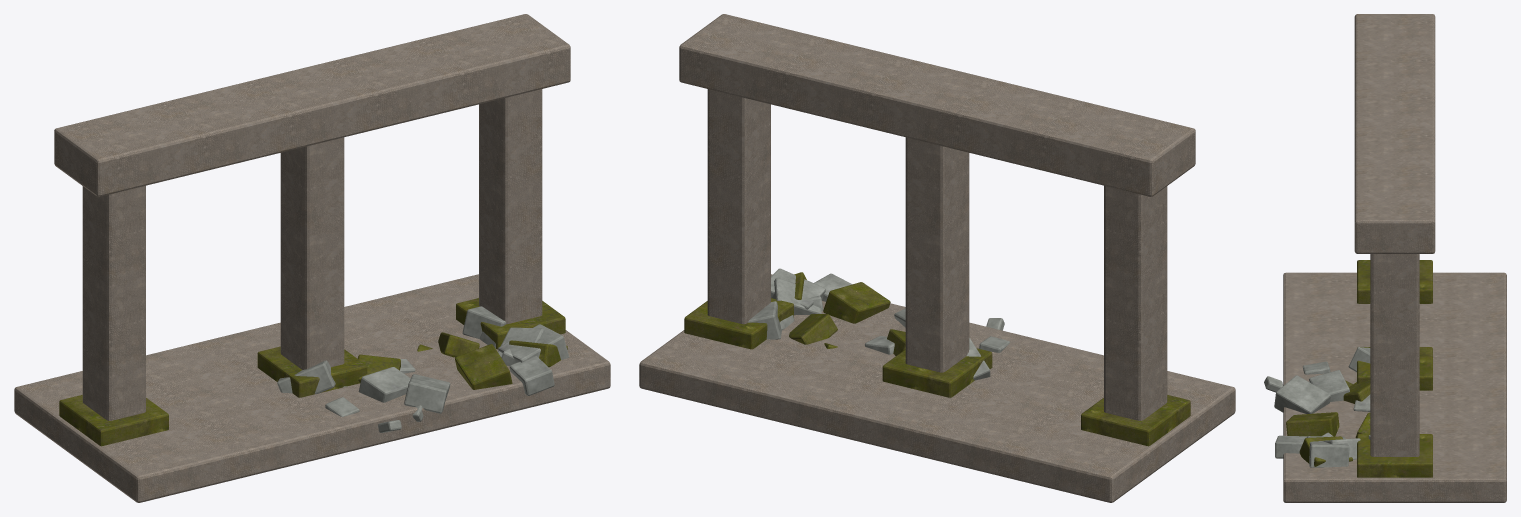
The model's file is f3_v3_sunken_colonnade.glb.
3 views of the same model, side by side, from view 1: azimuth 30°, elevation 25°; view 2: azimuth 150°, elevation 25°; view 3: azimuth 270°, elevation 25° (orthographic). The views are drawn at different scales.
Parts seen in each view (by area): view 1: f3_weathered_concrete_surface, f3_damp_concrete_surface, f3_exposed_aggregate_surface; view 2: f3_weathered_concrete_surface, f3_damp_concrete_surface, f3_exposed_aggregate_surface; view 3: f3_weathered_concrete_surface, f3_damp_concrete_surface, f3_exposed_aggregate_surface.
Part boxes in pixels (<box>): f3_weathered_concrete_surface: <box>14,14,610,502</box>; f3_damp_concrete_surface: <box>59,298,567,446</box>; f3_exposed_aggregate_surface: <box>277,306,569,432</box>; f3_weathered_concrete_surface: <box>639,14,1235,502</box>; f3_damp_concrete_surface: <box>684,272,1190,446</box>; f3_exposed_aggregate_surface: <box>748,268,1010,380</box>; f3_weathered_concrete_surface: <box>1283,14,1506,502</box>; f3_damp_concrete_surface: <box>1286,260,1432,477</box>; f3_exposed_aggregate_surface: <box>1264,347,1370,467</box>.
Bounding box in the file's own units: 5.5 × 3.49 × 2.71.
3 materials, 3 textured.
